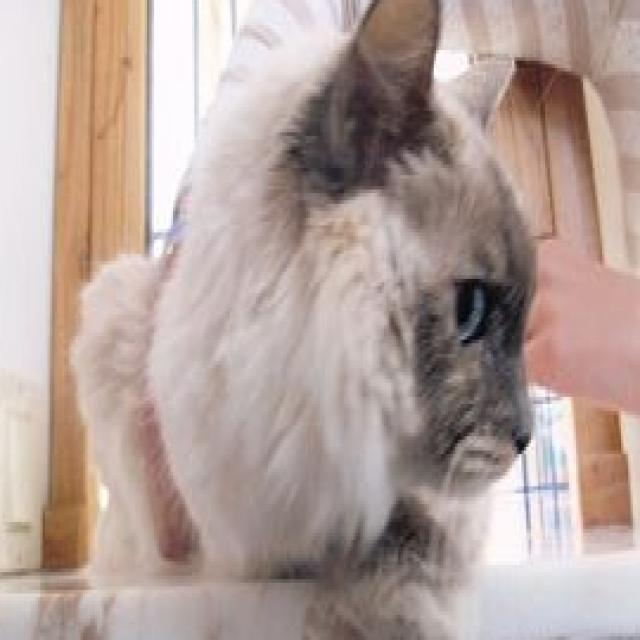Ragdoll: (69, 0, 545, 640)
